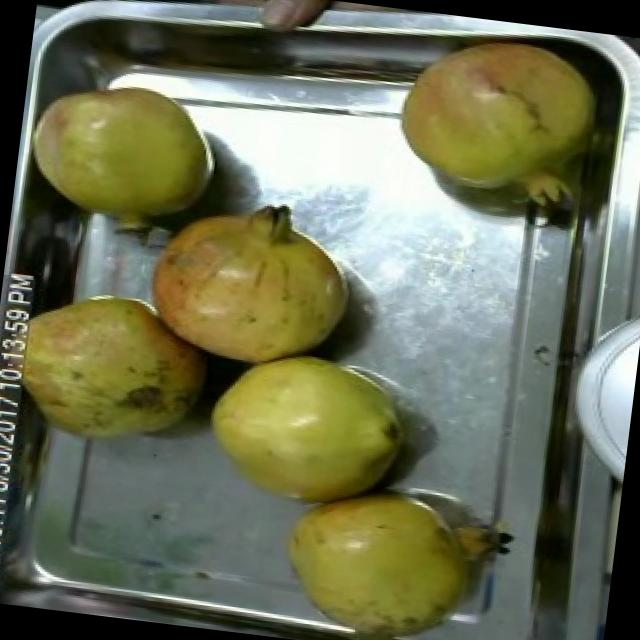fruit: (121, 175, 372, 384), (191, 331, 428, 524), (377, 22, 606, 210), (1, 275, 222, 463), (15, 63, 236, 245), (259, 470, 493, 640)
